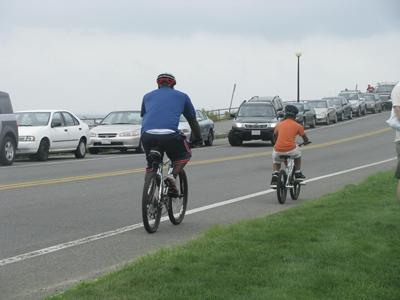With Helmet: (153, 71, 179, 94), (283, 103, 299, 120)
